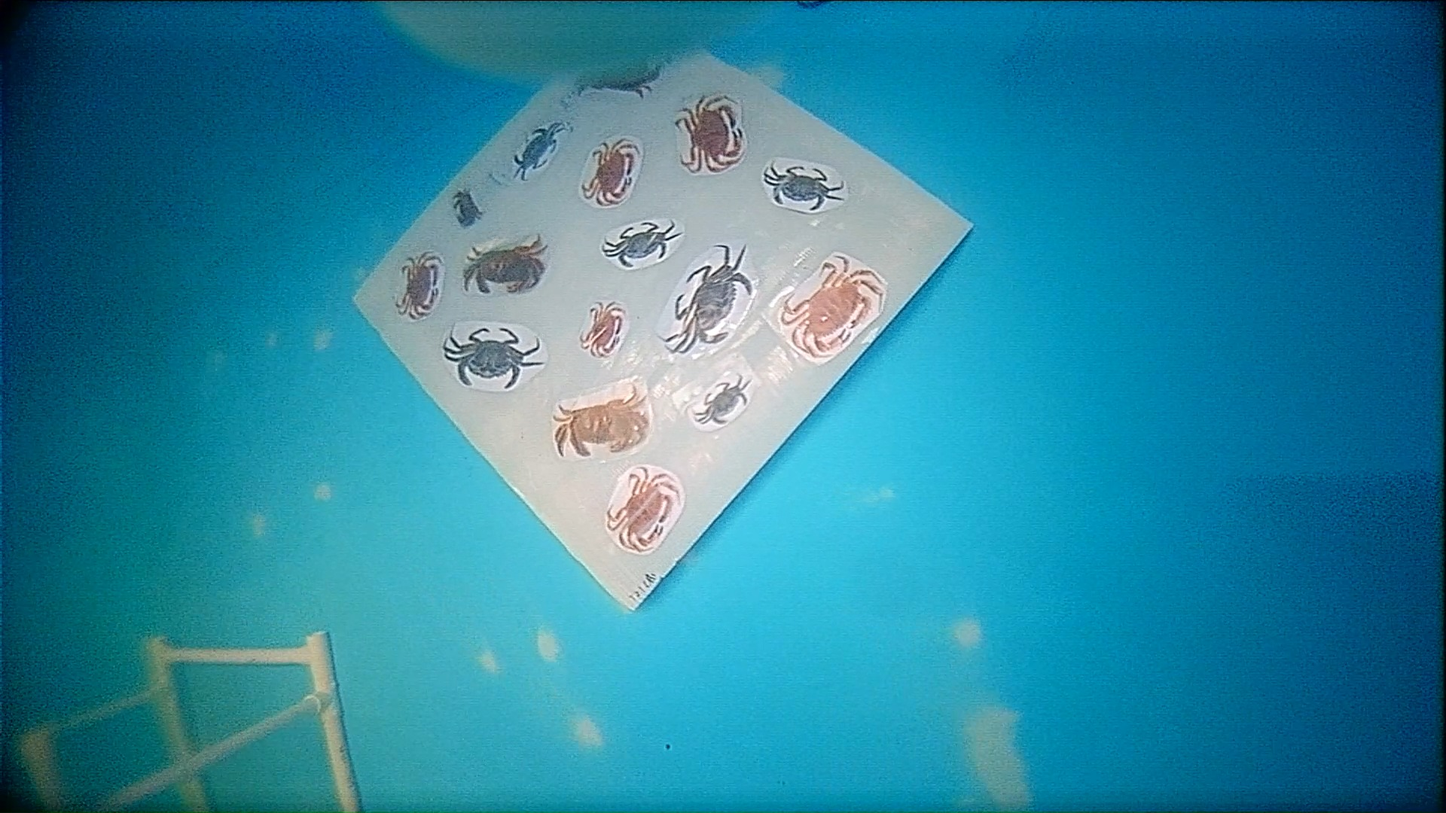GreenCrab: (664, 245, 753, 352), (444, 327, 542, 389), (603, 221, 680, 268), (764, 164, 842, 210), (694, 376, 748, 425)
